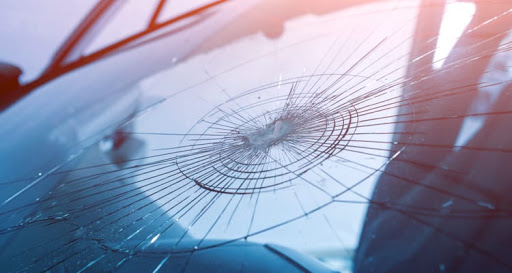crack: (58, 75, 440, 241)
